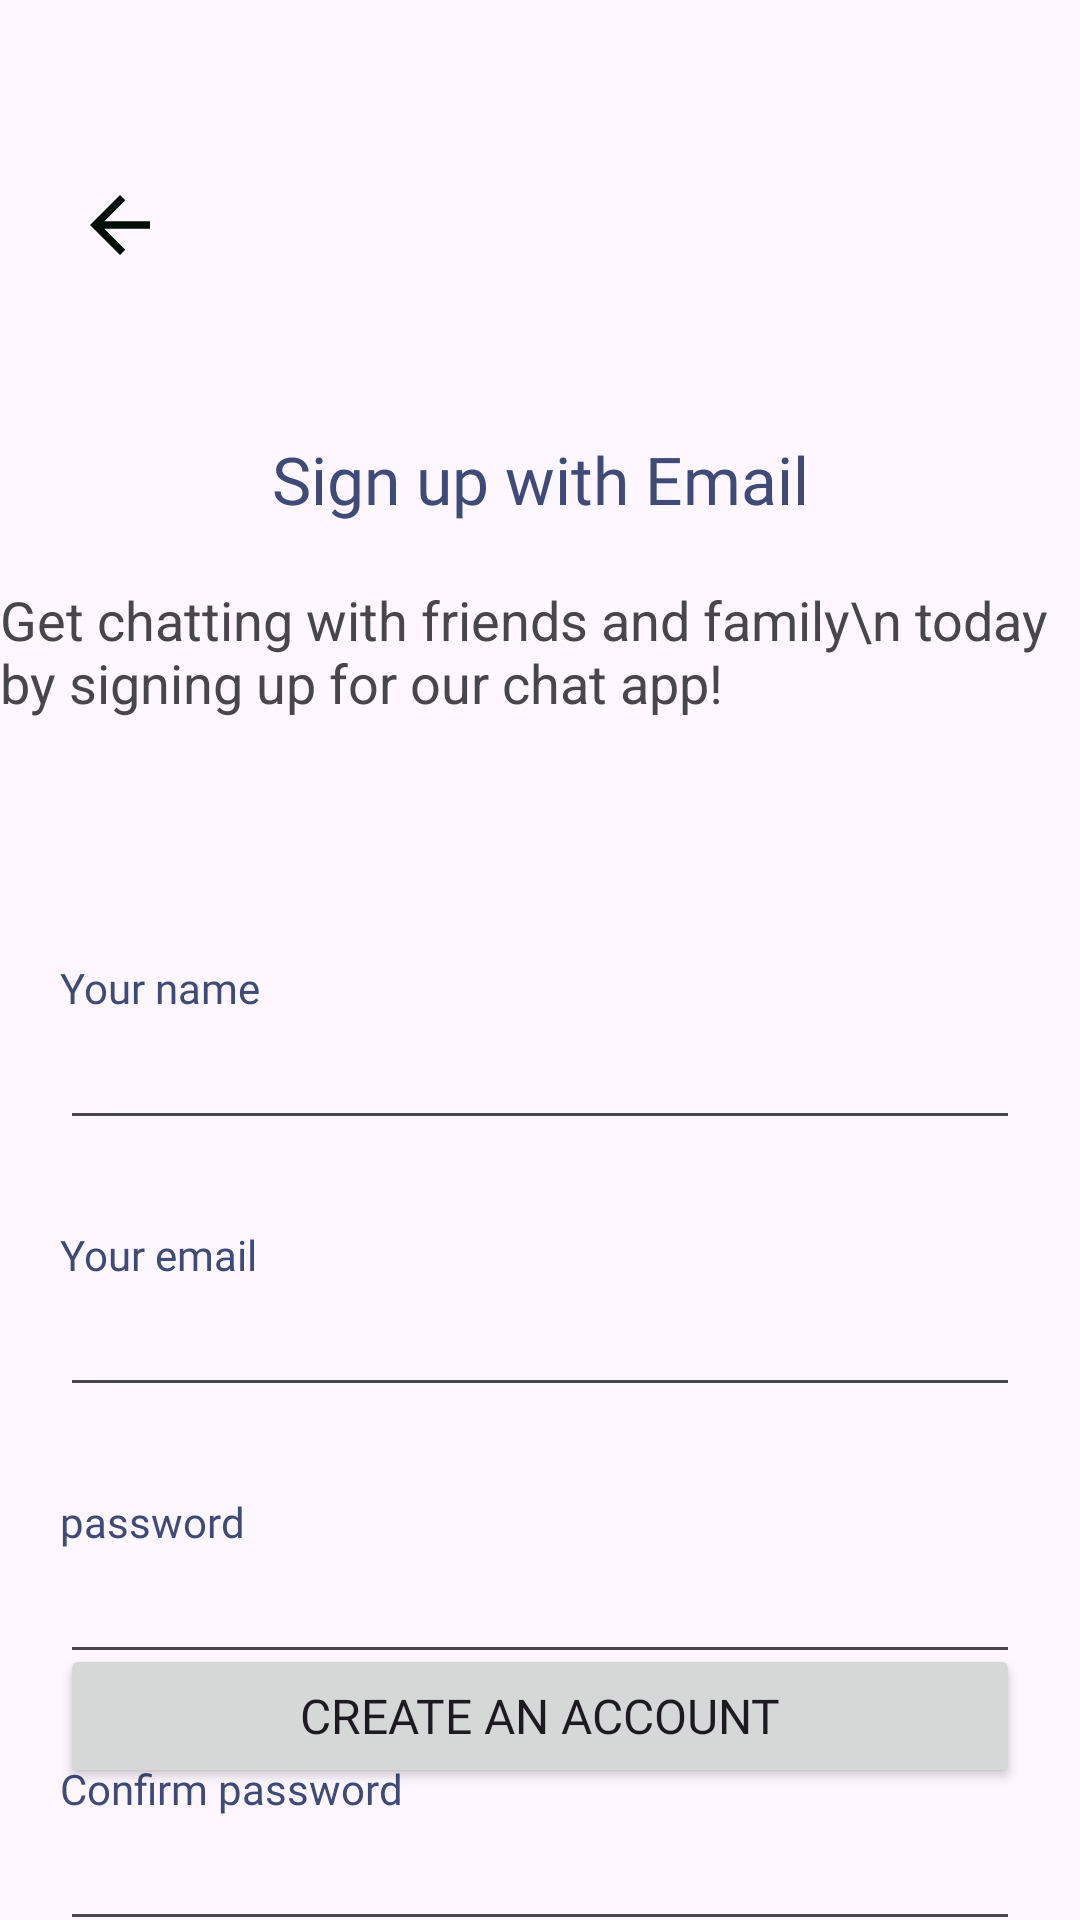

Screen size 1080 x 1920. Icon name, then its box in pixels as (x1, y1, x2, y2):
arrow back: (90, 195, 150, 255)
